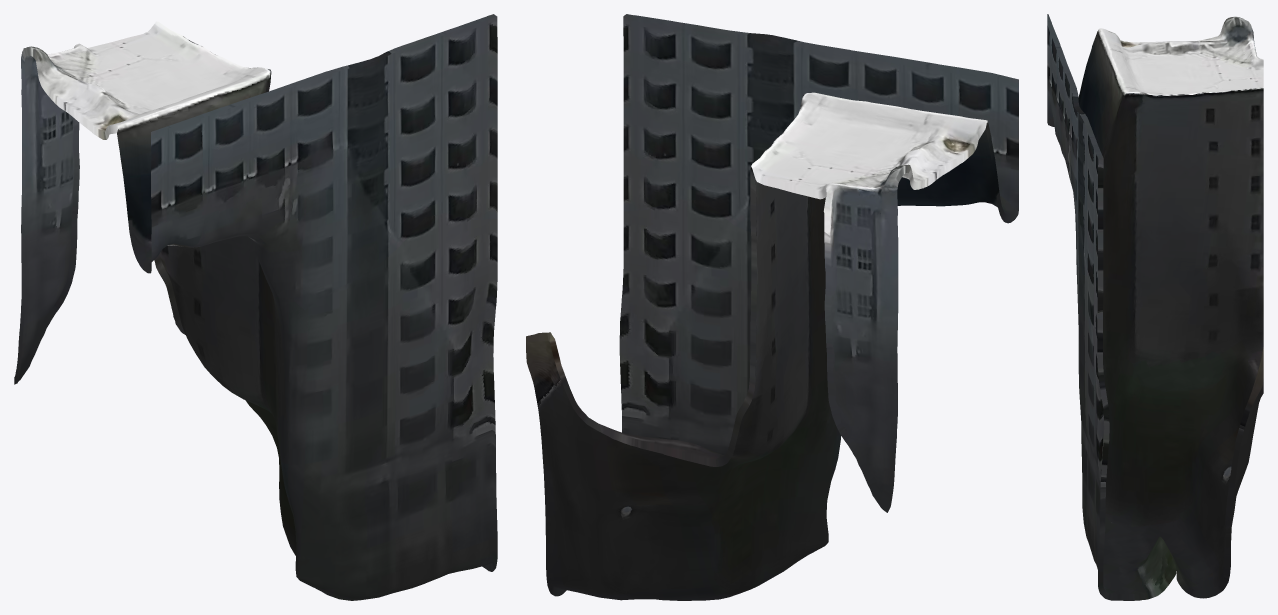
Rendered from z20-167764-405239-h0-yup-uvflip-v3-world.glb.
3 renders of one model, left to right at view 1: azimuth 30°, elevation 25°; view 2: azimuth 150°, elevation 25°; view 3: azimuth 270°, elevation 25°, orthographic. The views are drawn at different scales.
Bounding box in the file's own units: 30.16 × 42.8 × 19.
1 material, 1 textured.
